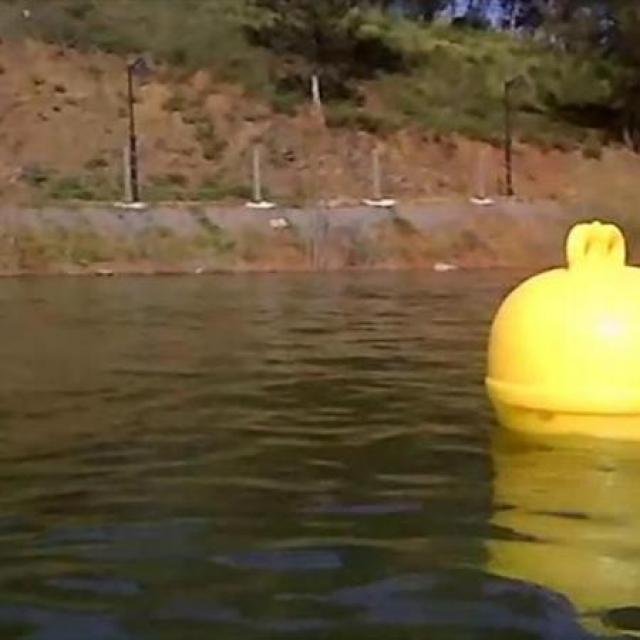buoy: (488, 220, 638, 432)
